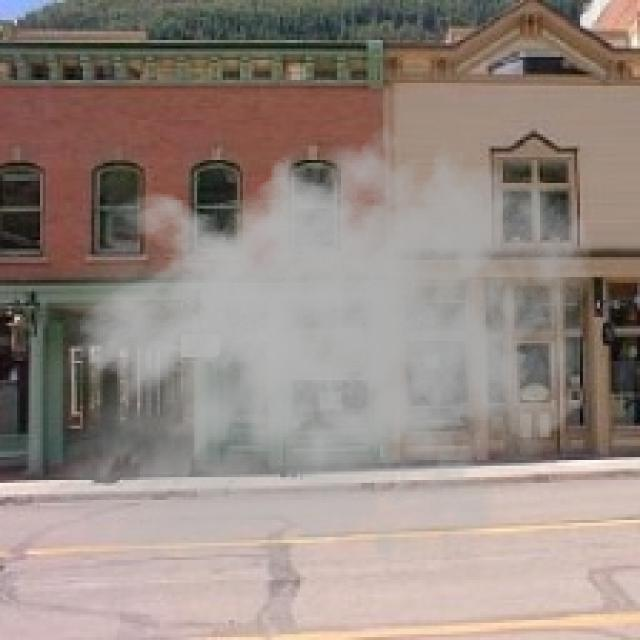Smoke: (26, 108, 594, 623)
